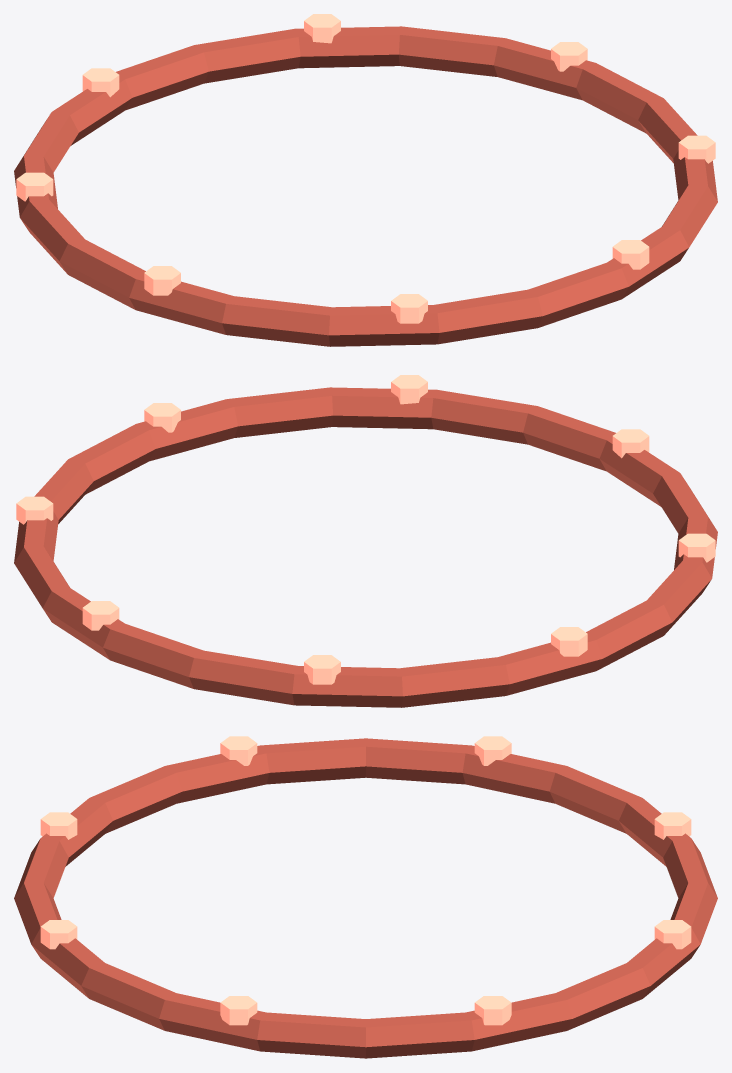
File: team_foot_ring.glb
3 views of the same model, one above another, from view 1: azimuth 30°, elevation 25°; view 2: azimuth 150°, elevation 25°; view 3: azimuth 270°, elevation 25° (orthographic).
Visible parts, largest first — view 1: team_foot_ring; view 2: team_foot_ring; view 3: team_foot_ring.
Boxes of the visible parts, left/top/right/bottom form: team_foot_ring: left=14, top=14, right=717, bottom=346; team_foot_ring: left=14, top=375, right=717, bottom=707; team_foot_ring: left=14, top=736, right=717, bottom=1058.
Bounding box in the file's own units: 0.996 × 0.0642 × 0.996.
